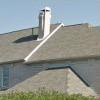Chimney: (30, 3, 49, 41)
